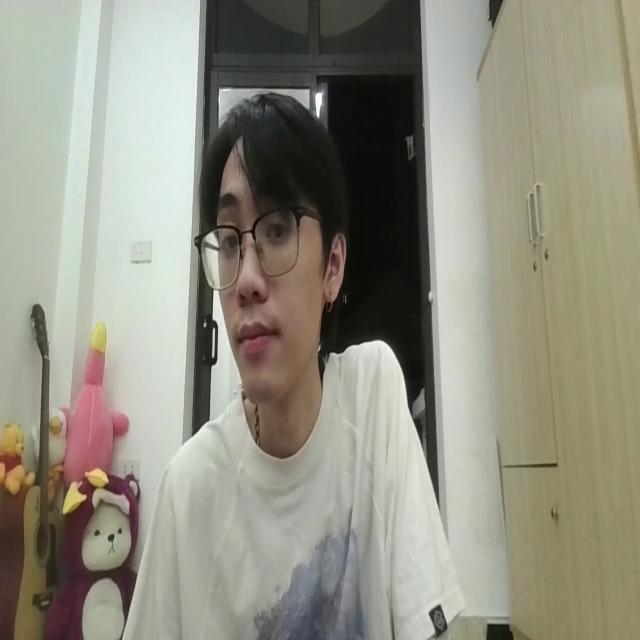student: (116, 86, 468, 640)
